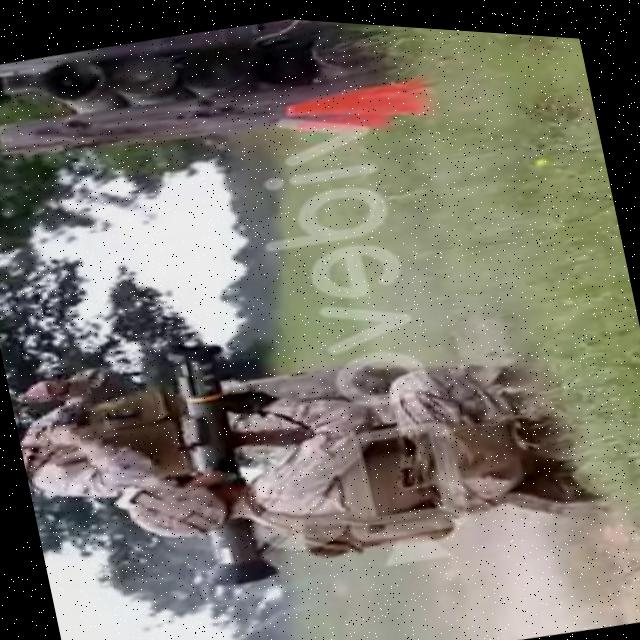rocket: (162, 332, 278, 591)
